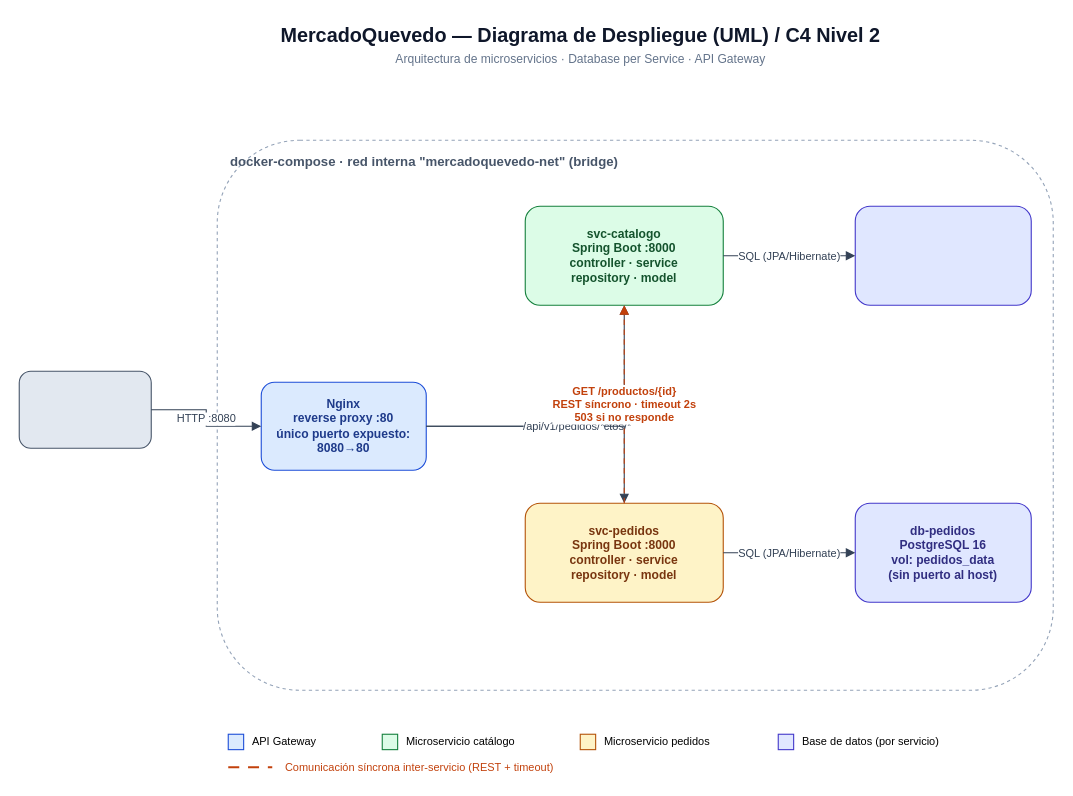
The diagram is 1073 pixels wide and 796 high, and some of its shapes have lost their labels. The shapes that lost their labels are listed below. From the top down, each one's centre as x and y in pixels, then its label:
the point at 942,255: db-catalogo PostgreSQL 16 vol: catalogo_data (sin puerto al host)
the point at 84,409: Cliente (Postman / Web)
